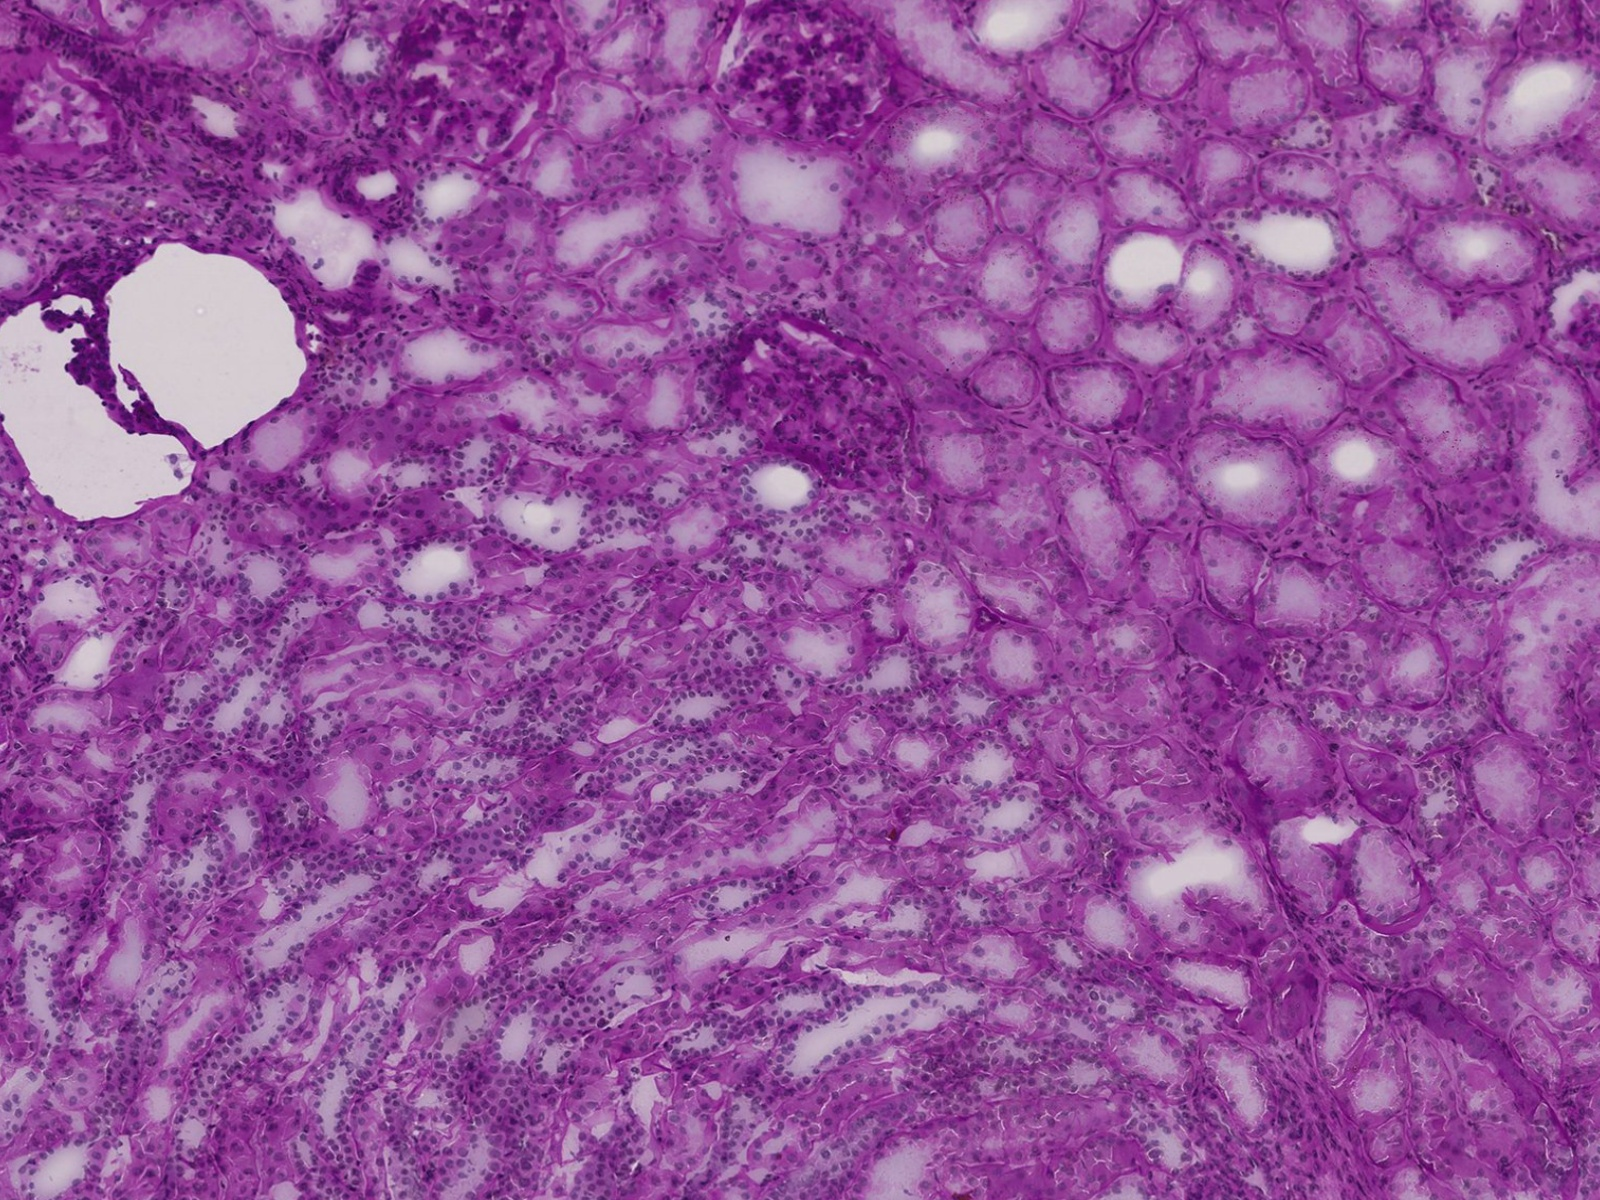Glomeruli: (712, 308, 915, 502), (695, 11, 905, 176), (389, 8, 564, 173)
